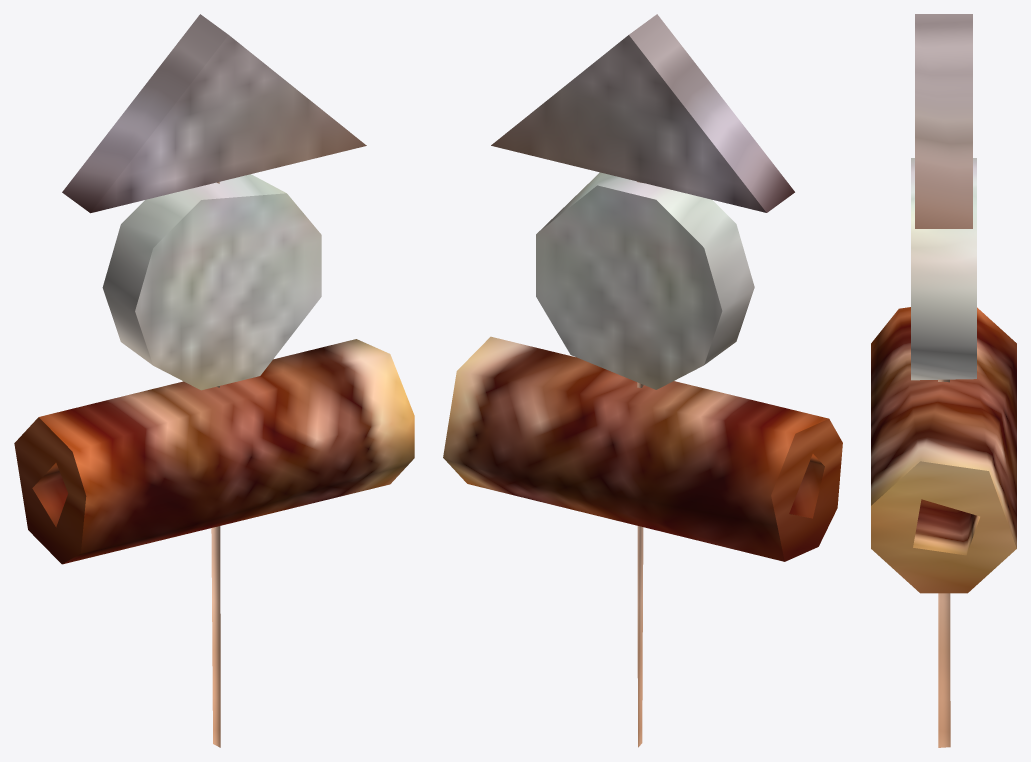
File: oden3.fbx
The picture shows the model from 3 angles, left to right: view 1: azimuth 30°, elevation 25°; view 2: azimuth 150°, elevation 25°; view 3: azimuth 270°, elevation 25°; orthographic projection.
Visible parts, largest first — view 1: polySurface2; view 2: polySurface2; view 3: polySurface2.
Part boxes in pixels (left/top/right/bottom): polySurface2: left=14, top=14, right=414, bottom=747; polySurface2: left=443, top=14, right=842, bottom=747; polySurface2: left=871, top=14, right=1016, bottom=747.
Bounding box in the file's own units: 0.8482 × 1.78 × 0.3218.
Materials: 1 (1 with a texture image).
